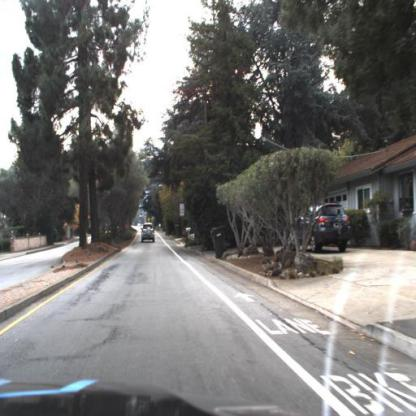car: (291, 199, 353, 253), (139, 219, 160, 247)
